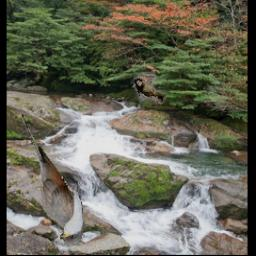Cuckoo: (21, 112, 84, 247)
Sparrow: (133, 73, 166, 106)
